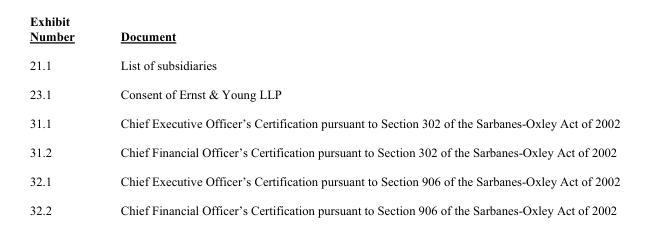table: (28, 28, 619, 216)
table column: (96, 28, 619, 216), (28, 28, 96, 216)
table column header: (28, 28, 619, 50)
table row: (28, 50, 619, 79), (28, 79, 619, 108), (28, 108, 619, 137), (28, 137, 619, 166), (28, 166, 619, 195), (28, 28, 619, 50), (28, 195, 619, 216)
